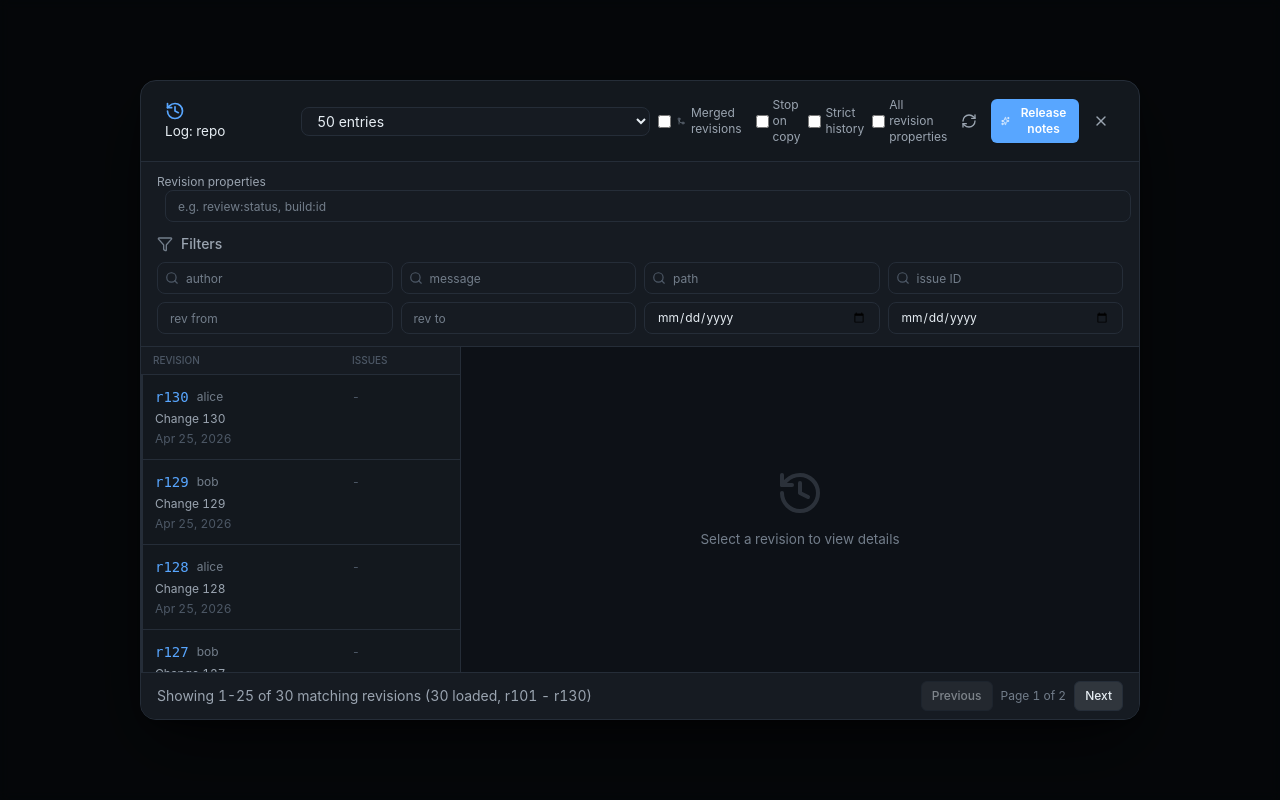
Scenario: LogViewer › paginates loaded revisions and reports matching counts
The width and height of the screenshot is (1280, 800).
Check: the text "r130" is shown, box [155,387,189,407]
Check: the text "r105" is not shown
Step 1. Click the button "Next" → coordinates (1099, 696), box [1074,681,1123,711]
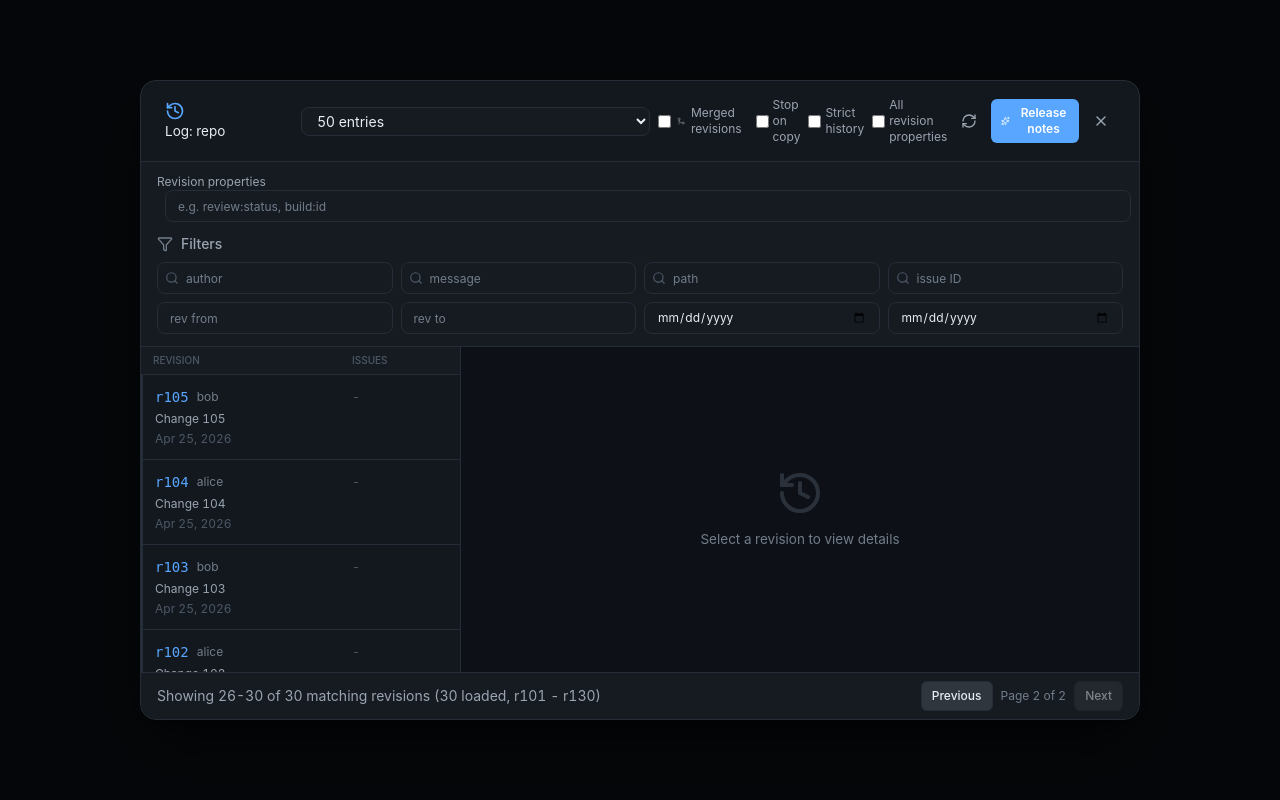
Check: the text "r105" is shown, box [155,387,189,407]
Check: the text "Showing 26-30 of 30 matching revisions" is shown, box [157,686,601,706]
